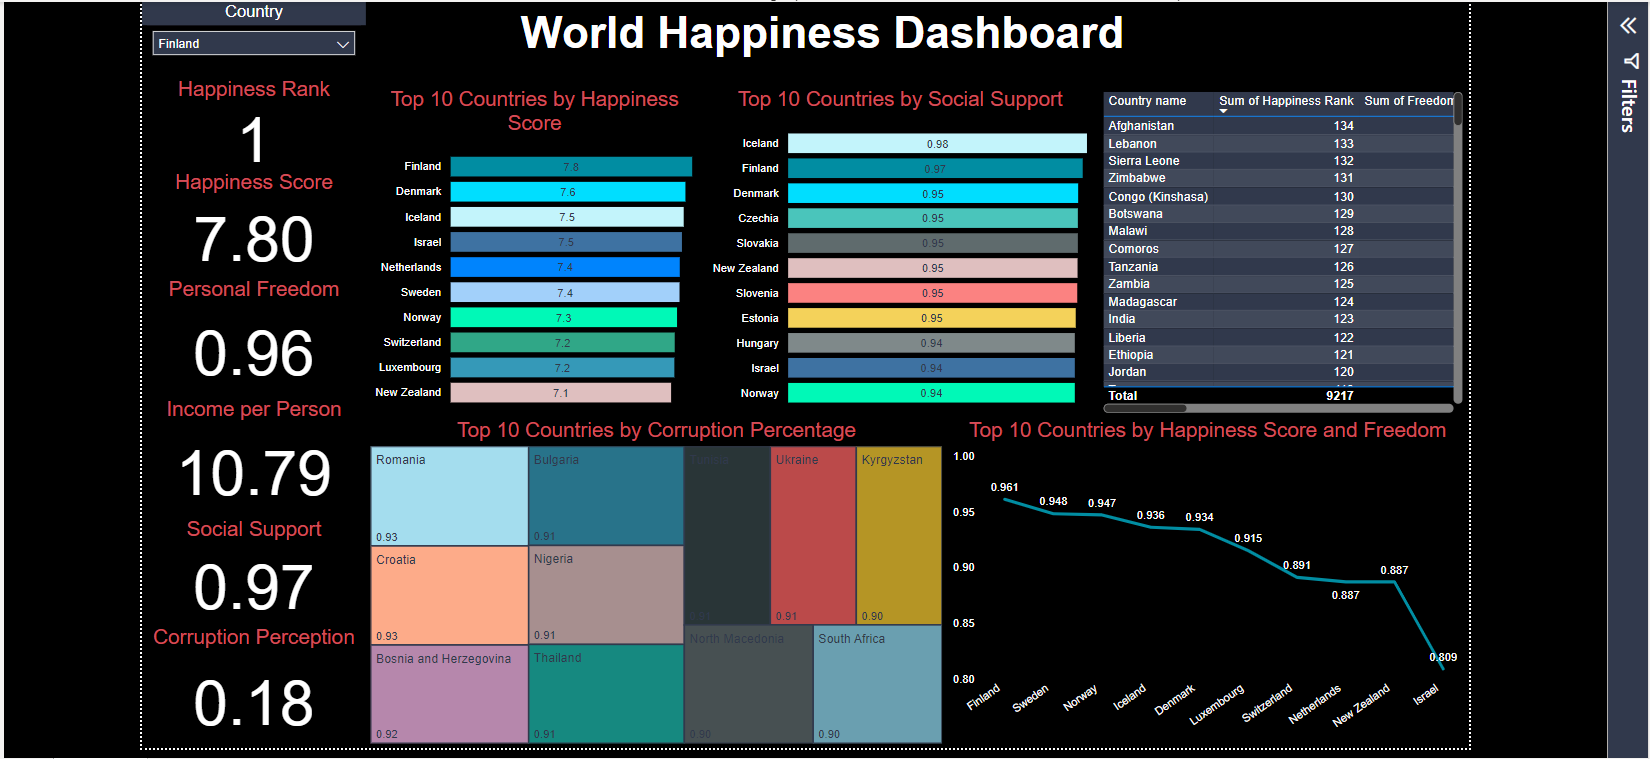

What the dashboard file says about the page in this screenshot:
{"tool":"powerbi","page":{"name":"Page 1","canvas":[1280,720],"ordinal":0},"visuals":[{"type":"slicer","title":"Country","fields":{"Values":["WorldHappiness.Country name"]},"box":[0,0,215.9,72.4],"z":0},{"type":"card","title":"Happiness Rank","fields":{"Values":["Sum(WorldHappiness.Happiness Rank)"]},"box":[0,72.4,215.9,89.2],"z":1000},{"type":"card","title":"Happiness Score","fields":{"Values":["Sum(WorldHappiness.Happiness score)"]},"box":[0,161.6,215.9,103.7],"z":2000},{"type":"card","title":"Income per Person","fields":{"Values":["Sum(WorldHappiness.Logged GDP per capita)"]},"box":[0,381.1,215.9,115.8],"z":3000},{"type":"card","title":"Corruption Perception","fields":{"Values":["Sum(WorldHappiness.Perceptions of corruption)"]},"box":[0,600.6,215.9,119.4],"z":4000},{"type":"card","title":"Social Support","fields":{"Values":["Sum(WorldHappiness.Social support)"]},"box":[0,496.9,215.9,103.7],"z":5000},{"type":"card","title":"Personal Freedom","fields":{"Values":["Sum(WorldHappiness.Freedom to make life choices)"]},"box":[0,265.3,215.9,115.8],"z":6000},{"type":"textbox","box":[326.8,0,659.7,72.4],"z":7000},{"type":"barChart","title":"Top 10 Countries by Happiness Score","fields":{"Category":["WorldHappiness.Country name"],"Y":["Sum(WorldHappiness.Happiness score)"],"Series":["WorldHappiness.Country name"]},"box":[215.9,82,325.6,319.6],"z":8000},{"type":"treemap","title":"Top 10 Countries by Corruption Percentage ","fields":{"Group":["WorldHappiness.Country name"],"Values":["Sum(WorldHappiness.Perceptions of corruption)"]},"box":[215.9,401.6,560.8,318.4],"z":9000},{"type":"barChart","title":"Top 10 Countries by Social Support","fields":{"Category":["WorldHappiness.Country name"],"Y":["Sum(WorldHappiness.Social support)"],"Series":["WorldHappiness.Country name"]},"box":[541.5,82,379.9,319.6],"z":10000},{"type":"tableEx","fields":{"Values":["WorldHappiness.Country name","Sum(WorldHappiness.Happiness Rank)","Sum(WorldHappiness.Freedom to make life choices)","Sum(WorldHappiness.Generosity)","Sum(WorldHappiness.Healthy life expectancy)","Sum(WorldHappiness.Logged GDP per capita)","Sum(WorldHappiness.Perceptions of corruption)","Sum(WorldHappiness.Social support)","Sum(WorldHappiness.Happiness score)"]},"box":[921.4,82,358.2,319.6],"z":11000},{"type":"lineChart","title":"Top 10 Countries by Happiness Score and Freedom","fields":{"Category":["WorldHappiness.Country name"],"Y":["Sum(WorldHappiness.Freedom to make life choices)"]},"box":[776.7,401.6,502.9,318.4],"z":12000}]}

Visuals, with their boxes on the page's 1280x720 design canvas (x1, y1, x2, y2). These are canvas units, not pixel positions in the 1650x759 screenshot, which may show the page scaled, cropped or inside an application window:
"Country" slicer: rect(0, 0, 216, 72)
"Happiness Rank" card: rect(0, 72, 216, 162)
"Happiness Score" card: rect(0, 162, 216, 265)
"Income per Person" card: rect(0, 381, 216, 497)
"Corruption Perception" card: rect(0, 601, 216, 720)
"Social Support" card: rect(0, 497, 216, 601)
"Personal Freedom" card: rect(0, 265, 216, 381)
textbox: rect(327, 0, 986, 72)
"Top 10 Countries by Happiness Score" barChart: rect(216, 82, 542, 402)
"Top 10 Countries by Corruption Percentage " treemap: rect(216, 402, 777, 720)
"Top 10 Countries by Social Support" barChart: rect(542, 82, 921, 402)
tableEx - WorldHappiness.Country name x Sum(WorldHappiness.Happiness Rank): rect(921, 82, 1280, 402)
"Top 10 Countries by Happiness Score and Freedom" lineChart: rect(777, 402, 1280, 720)
